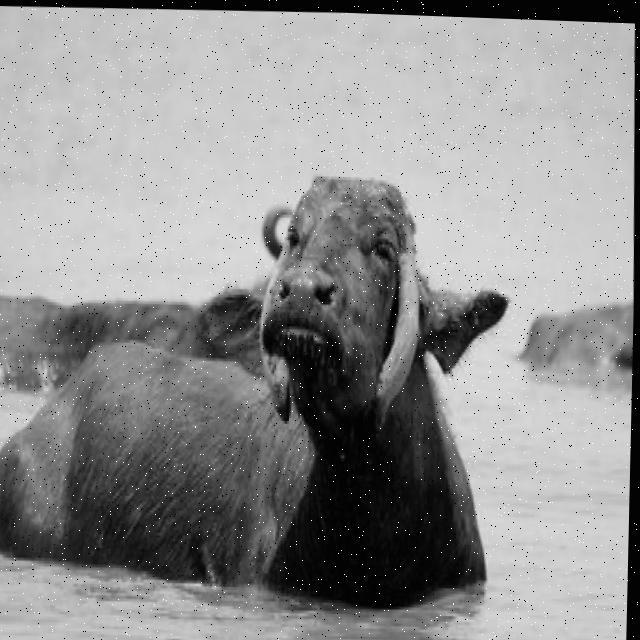Buffalo: (0, 152, 518, 619)
